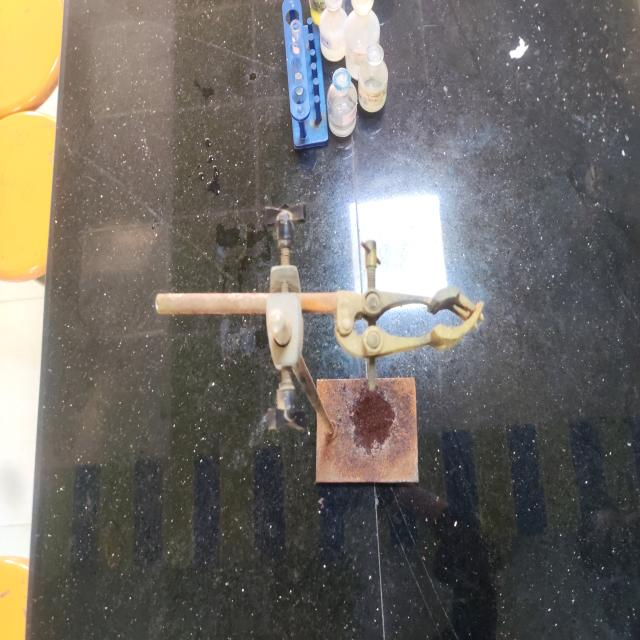Burette_Stands: (128, 185, 498, 503)
